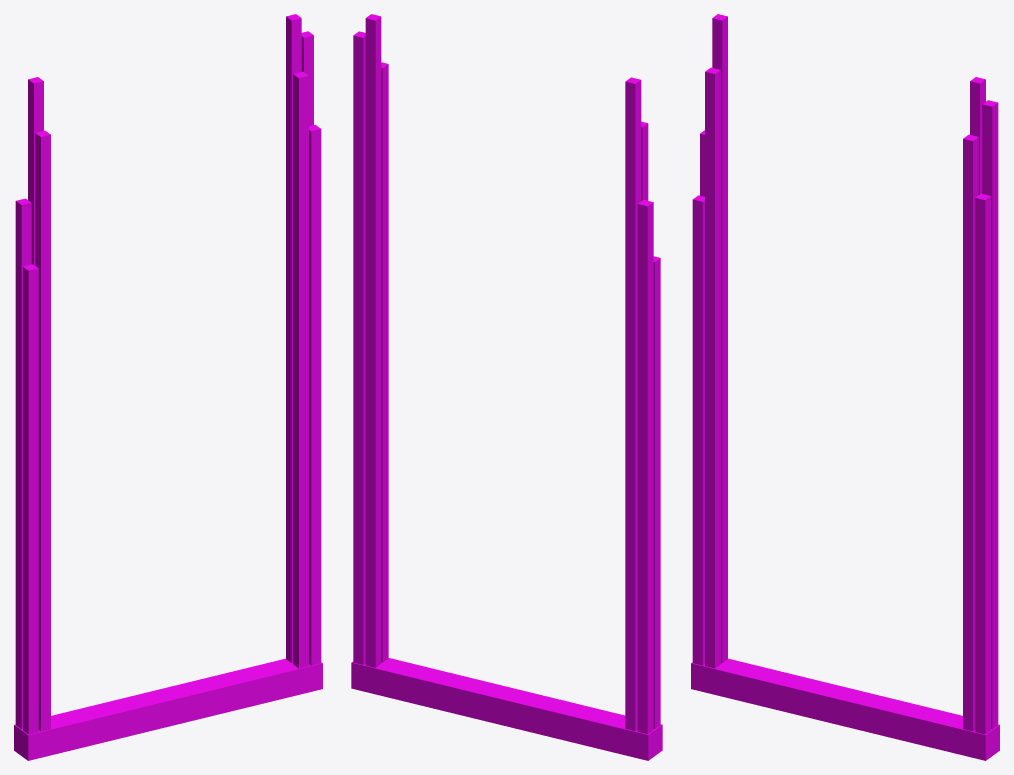
The model's file is remka new.FBX.
3 renders of one model, left to right at view 1: azimuth 30°, elevation 25°; view 2: azimuth 150°, elevation 25°; view 3: azimuth 330°, elevation 25°, orthographic.
Visible parts, largest first — view 1: Box001; view 2: Box001; view 3: Box001.
Part boxes in pixels (bbox=[...]): Box001: bbox=[14, 14, 322, 760]; Box001: bbox=[351, 14, 662, 760]; Box001: bbox=[691, 14, 999, 760].
Size of the model in its own units: 1200 by 2600 by 100.
